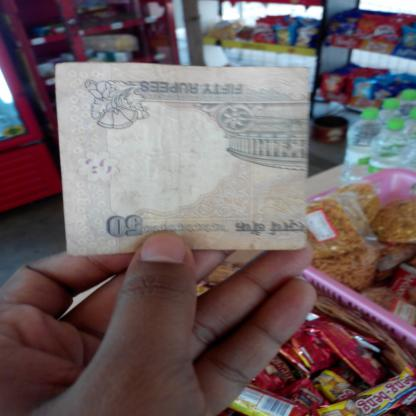Old50Back: (54, 61, 310, 256)
